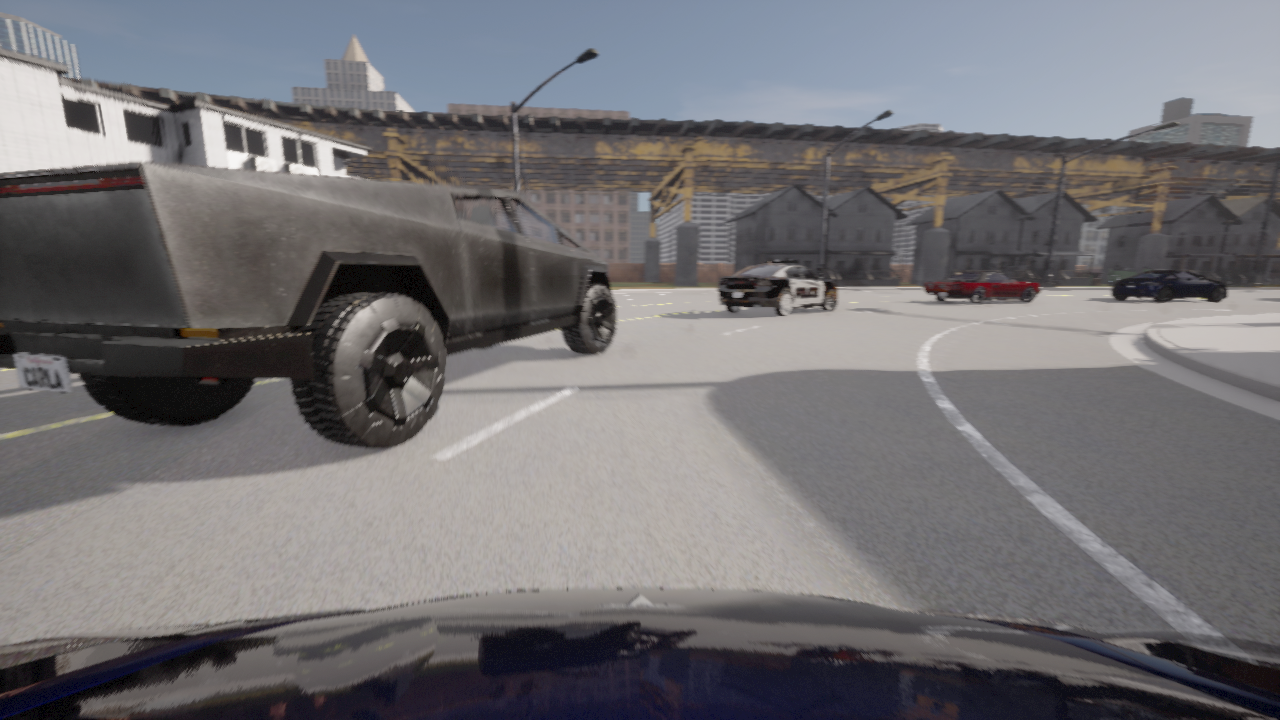cyclist: (0, 162, 616, 448), (0, 588, 1279, 719), (718, 259, 837, 316), (923, 272, 1040, 303), (1112, 271, 1227, 301)
